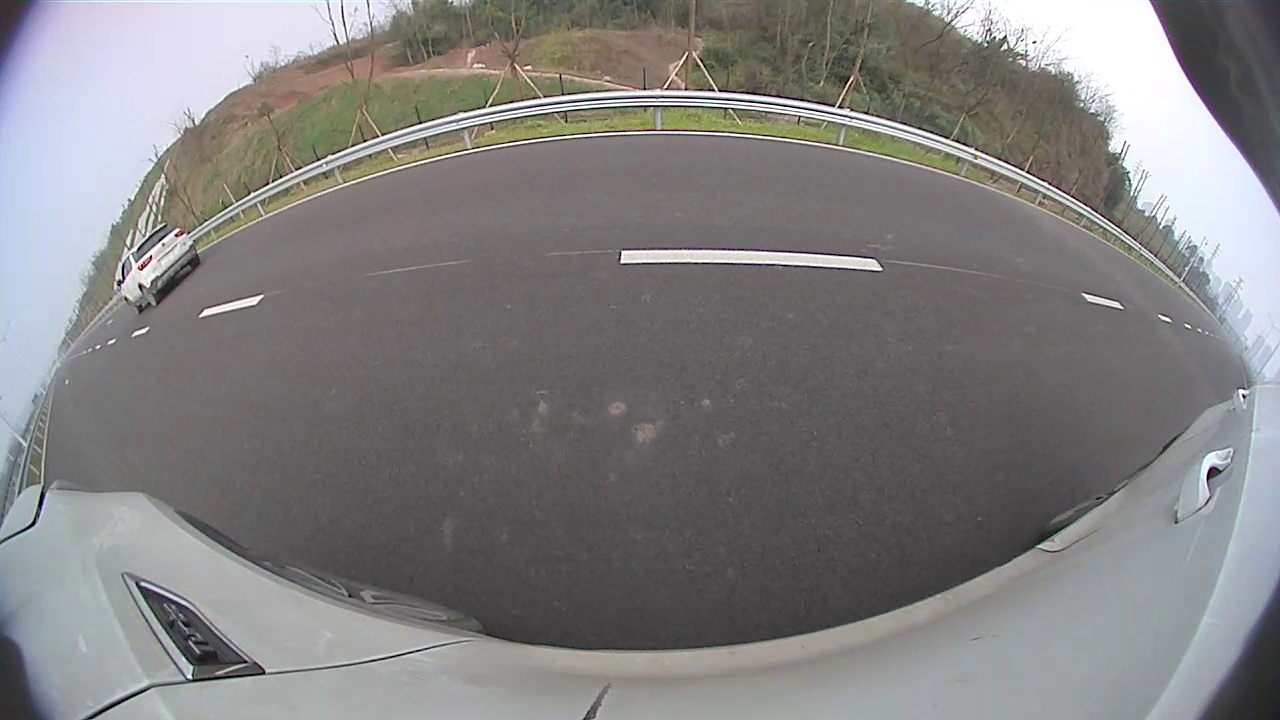car: (117, 221, 202, 314)
rear: (134, 284, 161, 310)
